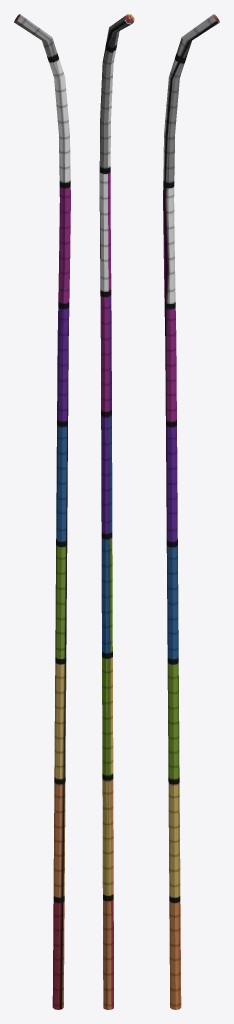
The model's file is LAstRura.fbx.
3 renders of one model, left to right at view 1: azimuth 90°, elevation 25°; view 2: azimuth 210°, elevation 25°; view 3: azimuth 270°, elevation 25°, orthographic.
Visible parts, largest first — view 1: pCylinder2; view 2: pCylinder2; view 3: pCylinder2.
Part boxes in pixels (x1,y1,x2,y2): pCylinder2: [14, 14, 70, 1009]; pCylinder2: [99, 14, 134, 1009]; pCylinder2: [163, 14, 219, 1009].
Bounding box in the file's own units: 1.67 × 164 × 8.54.
Materials: 1 (1 with a texture image).
